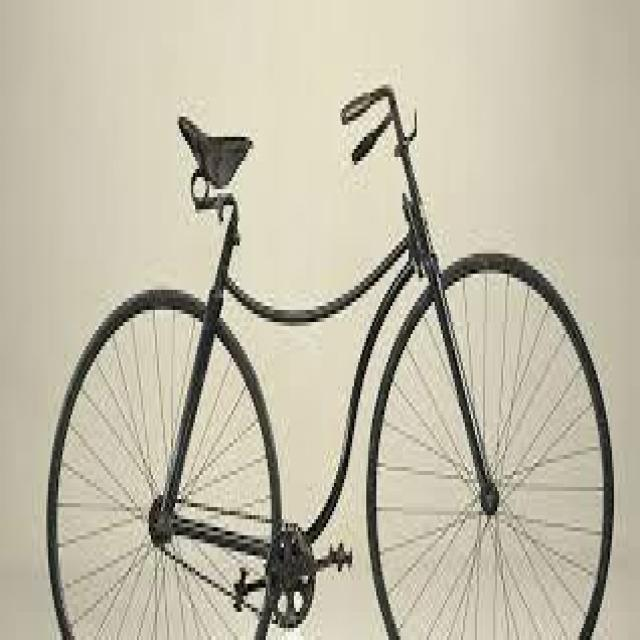bicycle: (69, 69, 611, 637)
